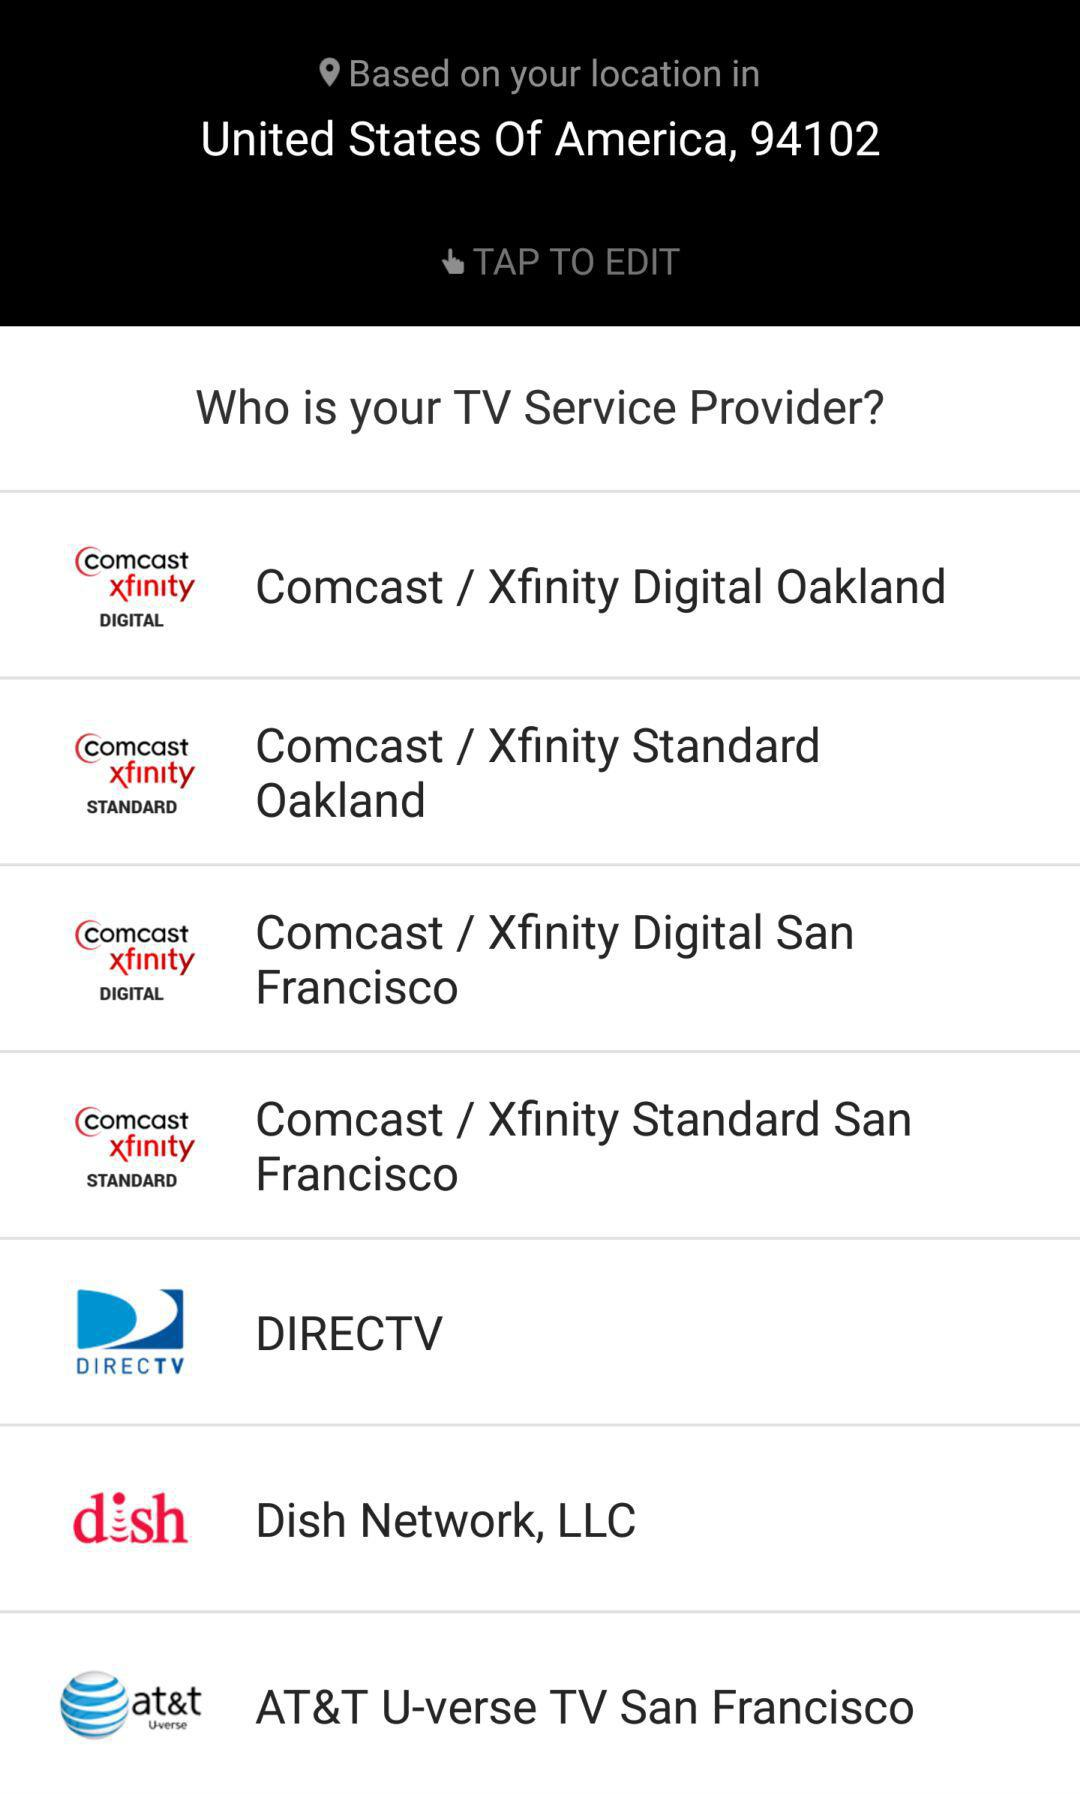Icon: (318, 58, 341, 90)
Image: (74, 732, 199, 818), (74, 545, 199, 630), (59, 1668, 204, 1741), (74, 1105, 199, 1189), (74, 919, 197, 1003), (76, 1287, 186, 1378), (72, 1490, 191, 1545), (441, 249, 466, 276)
Text: (256, 1098, 911, 1194), (258, 912, 855, 1007), (258, 725, 820, 819), (196, 387, 885, 436), (258, 566, 945, 615), (202, 118, 881, 165), (254, 1686, 915, 1726), (258, 1498, 637, 1545), (350, 58, 760, 97), (258, 1313, 445, 1352), (471, 247, 682, 277)
